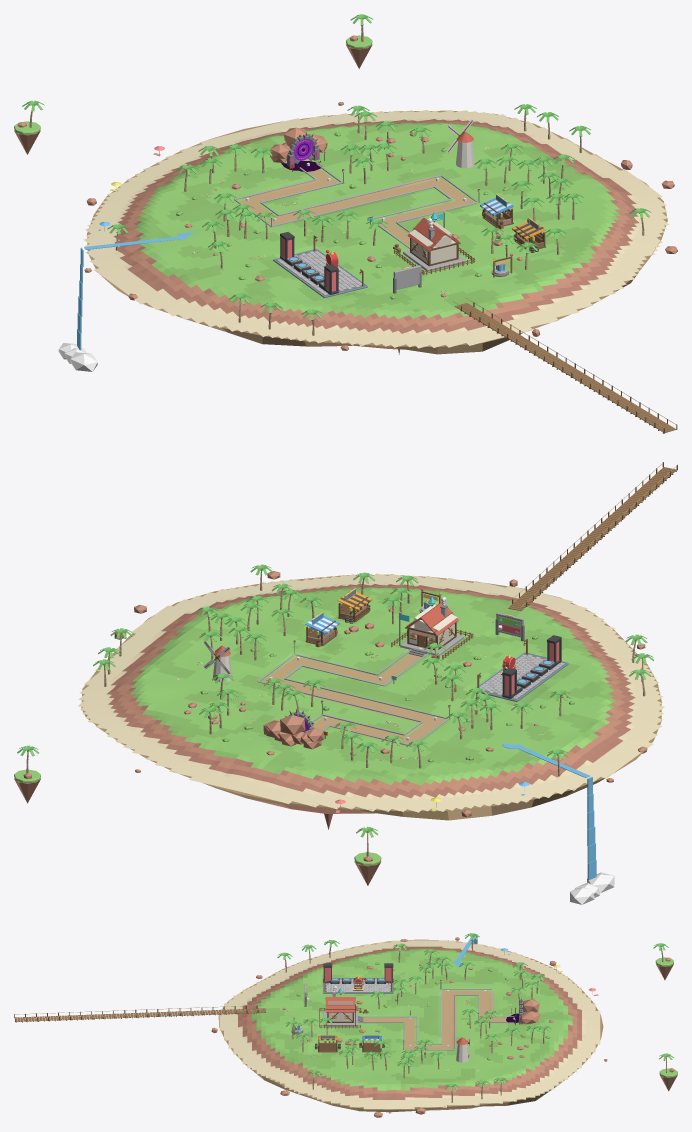
Rendered from Isla1_Tropical.glb.
3 renders of one model, top to bottom at view 1: azimuth 30°, elevation 25°; view 2: azimuth 150°, elevation 25°; view 3: azimuth 270°, elevation 25°, orthographic. The views are drawn at different scales.
Parts seen in each view (by area): view 1: Isla1_Tropical_Terreno, Isla1_Tropical_Detalles, Isla1_Tropical_Arboles_2, Isla1_Tropical_Arboles_1, Isla1_Tropical_Base_Flotante, Puente_1, Isla1_Tropical_Casa, Isla1_Tropical_Palanca_Zona, Isla1_Tropical_Bordes, Isla1_Tropical_Portal, Isla1_Tropical_Arboles_3, Isla1_Tropical_Rocas (+3 smaller); view 2: Isla1_Tropical_Terreno, Isla1_Tropical_Detalles, Isla1_Tropical_Base_Flotante, Isla1_Tropical_Arboles_2, Isla1_Tropical_Arboles_1, Puente_1, Isla1_Tropical_Casa, Isla1_Tropical_Palanca_Zona, Isla1_Tropical_Bordes, Isla1_Tropical_Arboles_3, Isla1_Tropical_Portal, Isla1_Tropical_Rocas (+2 smaller); view 3: Isla1_Tropical_Terreno, Isla1_Tropical_Arboles_2, Isla1_Tropical_Base_Flotante, Puente_1, Isla1_Tropical_Arboles_1, Isla1_Tropical_Casa, Isla1_Tropical_Palanca_Zona, Isla1_Tropical_Detalles, Isla1_Tropical_Bordes, Isla1_Tropical_Arboles_3, Isla1_Tropical_Rocas, Isla1_Tropical_Portal (+3 smaller).
Boxes of the visible parts, <box> form: Isla1_Tropical_Terreno: <box>83,110,669,348</box>; Isla1_Tropical_Detalles: <box>14,14,400,371</box>; Isla1_Tropical_Arboles_2: <box>176,127,574,268</box>; Isla1_Tropical_Arboles_1: <box>200,105,583,269</box>; Isla1_Tropical_Base_Flotante: <box>87,110,667,354</box>; Puente_1: <box>453,297,677,433</box>; Isla1_Tropical_Casa: <box>394,211,475,274</box>; Isla1_Tropical_Palanca_Zona: <box>273,232,367,297</box>; Isla1_Tropical_Bordes: <box>234,163,479,248</box>; Isla1_Tropical_Portal: <box>270,127,327,171</box>; Isla1_Tropical_Arboles_3: <box>107,104,650,335</box>; Isla1_Tropical_Rocas: <box>84,102,677,350</box>; Isla1_Tropical_Terreno: <box>78,573,664,812</box>; Isla1_Tropical_Detalles: <box>14,654,614,904</box>; Isla1_Tropical_Base_Flotante: <box>81,574,661,820</box>; Isla1_Tropical_Arboles_2: <box>196,572,571,768</box>; Isla1_Tropical_Arboles_1: <box>199,575,533,763</box>; Puente_1: <box>506,462,677,610</box>; Isla1_Tropical_Casa: <box>391,596,473,659</box>; Isla1_Tropical_Palanca_Zona: <box>476,635,568,701</box>; Isla1_Tropical_Bordes: <box>257,640,450,746</box>; Isla1_Tropical_Arboles_3: <box>93,564,653,776</box>; Isla1_Tropical_Portal: <box>263,709,323,749</box>; Isla1_Tropical_Rocas: <box>114,571,647,817</box>; Isla1_Tropical_Terreno: <box>219,940,600,1109</box>; Isla1_Tropical_Arboles_2: <box>296,943,546,1078</box>; Isla1_Tropical_Base_Flotante: <box>218,939,603,1112</box>; Puente_1: <box>14,1005,267,1022</box>; Isla1_Tropical_Arboles_1: <box>285,949,552,1073</box>; Isla1_Tropical_Casa: <box>319,986,363,1028</box>; Isla1_Tropical_Palanca_Zona: <box>323,963,393,993</box>; Isla1_Tropical_Detalles: <box>359,934,677,1091</box>; Isla1_Tropical_Bordes: <box>357,980,514,1050</box>; Isla1_Tropical_Arboles_3: <box>277,933,509,1102</box>; Isla1_Tropical_Rocas: <box>211,937,607,1117</box>; Isla1_Tropical_Portal: <box>506,998,540,1025</box>.
Bounding box in the file's own units: 154 × 44.9 × 240.
Materials: 1 (1 with a texture image).
